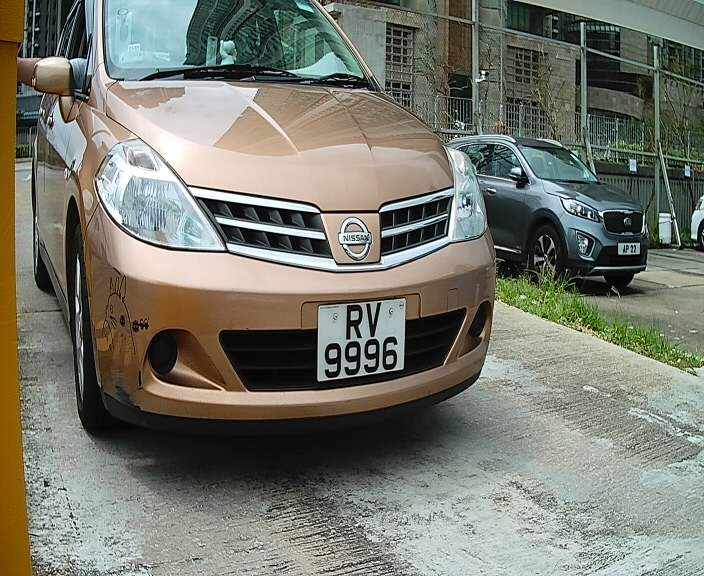License Plate: (313, 293, 409, 385)
